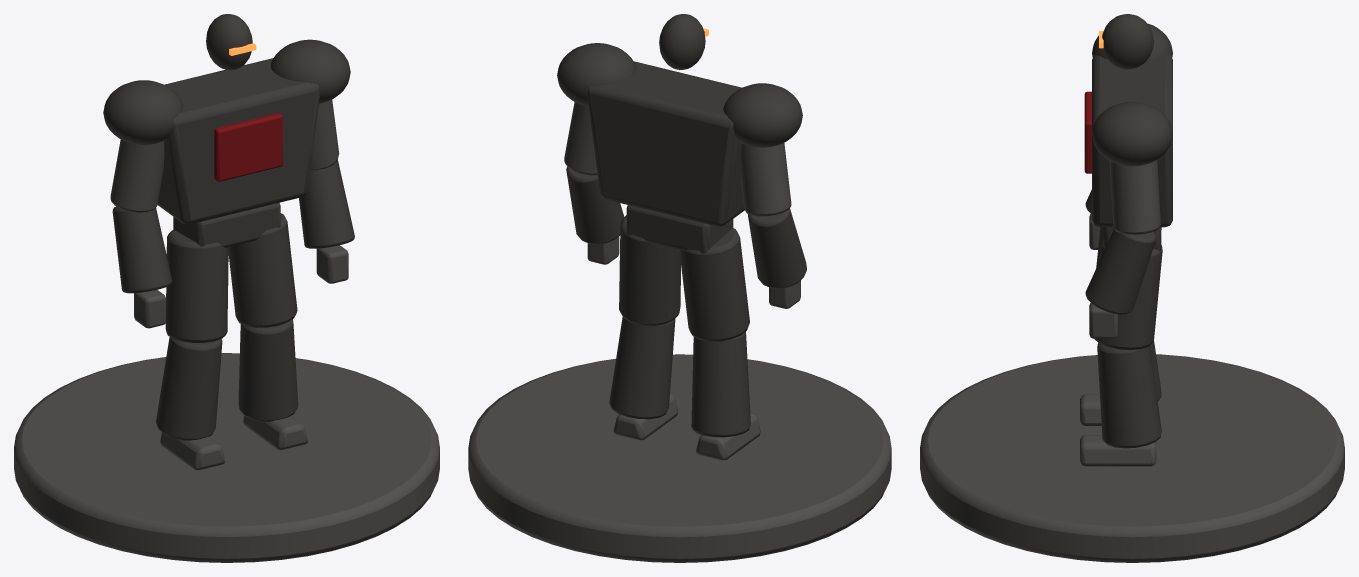
The model's file is covenant_frame_striker.glb.
The picture shows the model from 3 angles, left to right: view 1: azimuth 30°, elevation 25°; view 2: azimuth 150°, elevation 25°; view 3: azimuth 270°, elevation 25°; orthographic projection.
Visible parts, largest first — view 1: standin_base.001, t.001, standin_thigh_R.001, standin_thigh_L.001, standin_shin_R.001, standin_shin_L.001, standin_pauldron_R.001, standin_forearm_R.001, tp.001, standin_forearm_L.001, standin_arm_R.001, standin_pauldron_L.001 (+7 smaller); view 2: standin_base.001, t.001, standin_thigh_R.001, standin_shin_R.001, standin_shin_L.001, standin_thigh_L.001, standin_pauldron_R.001, standin_forearm_R.001, standin_arm_R.001, standin_pauldron_L.001, standin_pelvis.001, standin_forearm_L.001 (+6 smaller); view 3: standin_base.001, t.001, standin_shin_L.001, standin_pauldron_L.001, standin_forearm_L.001, standin_arm_L.001, standin_thigh_L.001, h.001, standin_foot_L.001, standin_hand_L.001, standin_pauldron_R.001, standin_foot_R.001 (+1 smaller).
Part boxes in pixels (x1,y1,x2,y2): standin_base.001: [14, 353, 439, 562]; t.001: [157, 58, 320, 224]; standin_thigh_R.001: [165, 230, 228, 342]; standin_thigh_L.001: [228, 213, 297, 327]; standin_shin_R.001: [156, 337, 222, 440]; standin_shin_L.001: [238, 319, 298, 422]; standin_pauldron_R.001: [103, 80, 183, 145]; standin_forearm_R.001: [112, 206, 172, 293]; tp.001: [214, 113, 282, 181]; standin_forearm_L.001: [299, 159, 354, 248]; standin_arm_R.001: [110, 139, 164, 212]; standin_pauldron_L.001: [270, 39, 350, 103]; standin_base.001: [468, 354, 891, 562]; t.001: [587, 61, 744, 226]; standin_thigh_R.001: [679, 228, 749, 341]; standin_shin_R.001: [691, 331, 750, 437]; standin_shin_L.001: [609, 316, 675, 419]; standin_thigh_L.001: [619, 215, 680, 326]; standin_pauldron_R.001: [723, 83, 802, 147]; standin_forearm_R.001: [748, 208, 806, 288]; standin_arm_R.001: [740, 143, 791, 216]; standin_pauldron_L.001: [557, 43, 636, 106]; standin_pelvis.001: [626, 205, 733, 253]; standin_forearm_L.001: [566, 167, 624, 244]; standin_base.001: [920, 354, 1344, 562]; t.001: [1092, 54, 1172, 227]; standin_shin_L.001: [1097, 343, 1161, 448]; standin_pauldron_L.001: [1092, 101, 1172, 166]; standin_forearm_L.001: [1085, 229, 1156, 314]; standin_arm_L.001: [1109, 160, 1160, 234]; standin_thigh_L.001: [1094, 239, 1162, 350]; h.001: [1102, 14, 1153, 69]; standin_foot_L.001: [1080, 435, 1156, 466]; standin_hand_L.001: [1089, 303, 1117, 338]; standin_pauldron_R.001: [1092, 23, 1172, 62]; standin_foot_R.001: [1080, 394, 1101, 425].
Size of the model in its own units: 32 by 38.3 by 32.
